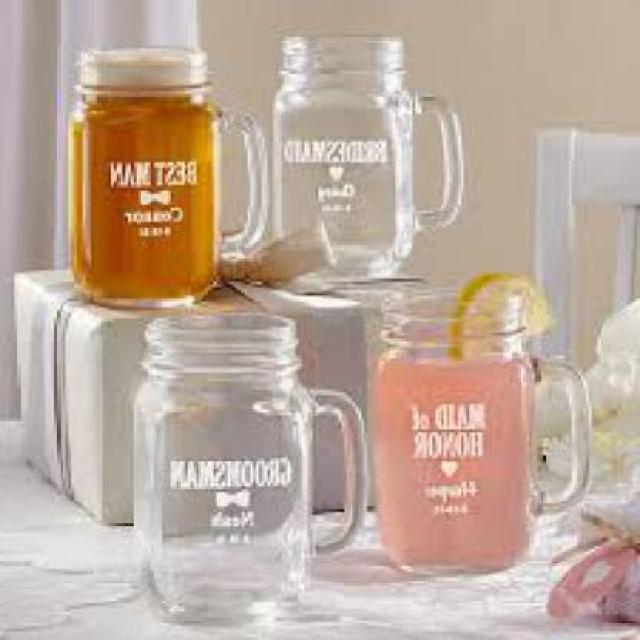BIODEGRADABLE: (77, 90, 215, 302), (453, 273, 552, 356)
GLASS: (136, 307, 367, 618), (375, 288, 594, 569), (74, 45, 271, 307), (270, 28, 470, 264)
